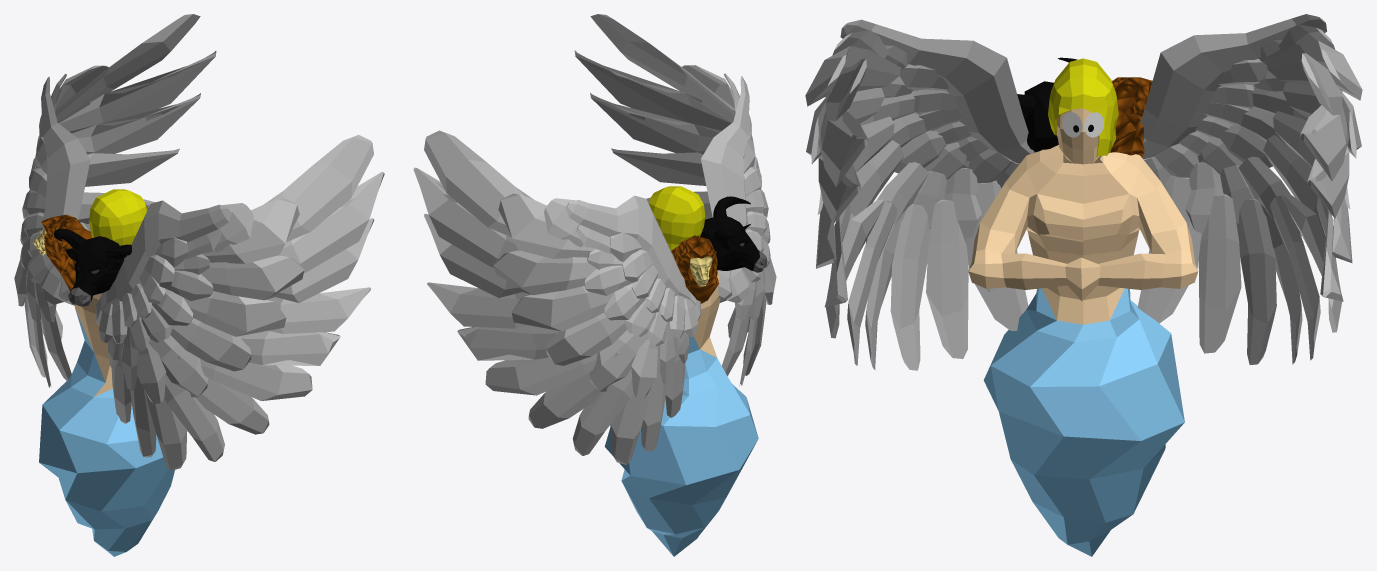
Rendered from Querubin.fbx.
3 renders of one model, left to right at view 1: azimuth 30°, elevation 25°; view 2: azimuth 150°, elevation 25°; view 3: azimuth 270°, elevation 25°, orthographic. The views are drawn at different scales.
Parts seen in each view (by area): view 1: Cylinder.118, Cylinder.119, Cone.001, Cube.012, CUERP BACKUP.011, uploads_files_2866017_lion_obj, Cone; view 2: Cylinder.119, Cylinder.118, Cone.001, Cube.012, CUERP BACKUP.011, uploads_files_2866017_lion_obj, Cone, uploads_files_2866017_lion_obj.001; view 3: Cylinder.119, Cylinder.118, Cone.001, Cone, CUERP BACKUP.011, uploads_files_2866017_lion_obj, Cube.012, Circle.004.
Boxes of the visible parts, <box> form: Cylinder.118: <box>95,135,384,470</box>; Cylinder.119: <box>14,14,216,387</box>; Cone.001: <box>39,310,174,556</box>; Cube.012: <box>54,228,131,306</box>; CUERP BACKUP.011: <box>89,189,147,245</box>; uploads_files_2866017_lion_obj: <box>41,214,92,291</box>; Cone: <box>74,257,125,396</box>; Cylinder.119: <box>413,130,700,464</box>; Cylinder.118: <box>574,14,776,386</box>; Cone.001: <box>604,336,758,556</box>; Cube.012: <box>700,196,767,272</box>; CUERP BACKUP.011: <box>648,186,705,250</box>; uploads_files_2866017_lion_obj: <box>671,235,718,303</box>; Cone: <box>693,270,720,357</box>; uploads_files_2866017_lion_obj.001: <box>690,256,712,286</box>; Cylinder.119: <box>1137,14,1362,364</box>; Cylinder.118: <box>805,19,1034,370</box>; Cone.001: <box>983,288,1184,556</box>; Cone: <box>968,108,1198,324</box>; CUERP BACKUP.011: <box>1048,58,1118,157</box>; uploads_files_2866017_lion_obj: <box>1110,77,1152,157</box>; Cube.012: <box>1017,57,1077,152</box>; Circle.004: <box>1062,112,1104,137</box>.
Bounding box in the file's own units: 415 × 694 × 585.
